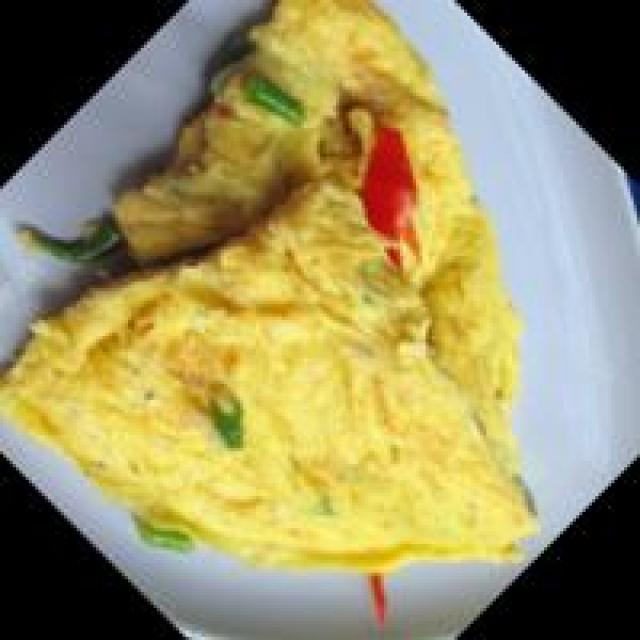telur_ayam_dadar: (0, 4, 541, 582)
